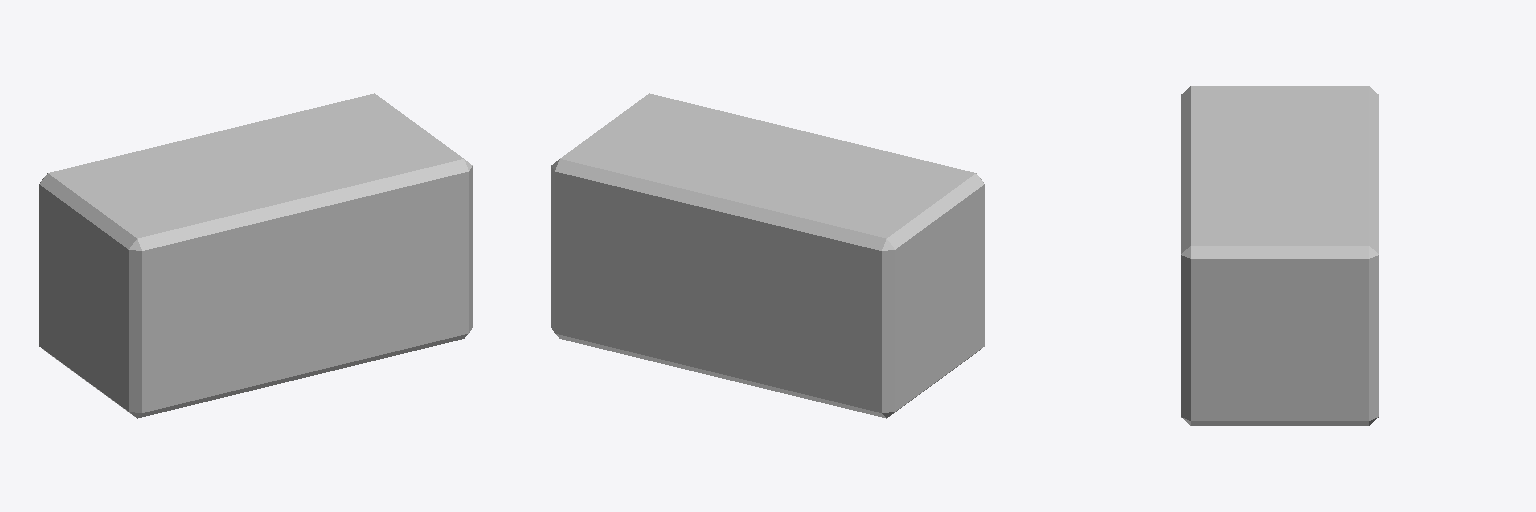
The model's file is brick.obj.
The picture shows the model from 3 angles: view 1: azimuth 30°, elevation 25°; view 2: azimuth 150°, elevation 25°; view 3: azimuth 270°, elevation 25°; orthographic projection.
Visible parts, largest first — view 1: Cube; view 2: Cube; view 3: Cube.
Part boxes in pixels (x1,y1,x2,y2): Cube: (39,93,472,418); Cube: (551,93,984,418); Cube: (1181,86,1378,425).
Bounding box in the file's own units: 4 × 2 × 2.